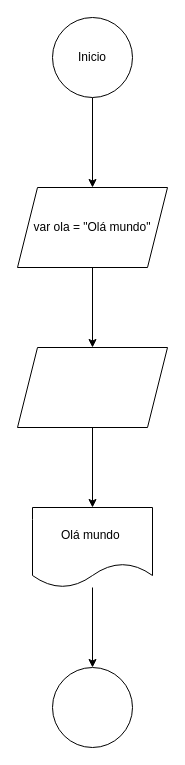
The diagram is 185 pixels wide and 765 high, and some of its shapes have lost their labels. The shapes that lost their labels are listed below. From the top down, each one's box as (x1, y1, x2, y2) in pixels, then its label:
(16, 346, 168, 428): ola
(52, 666, 132, 748): fim
